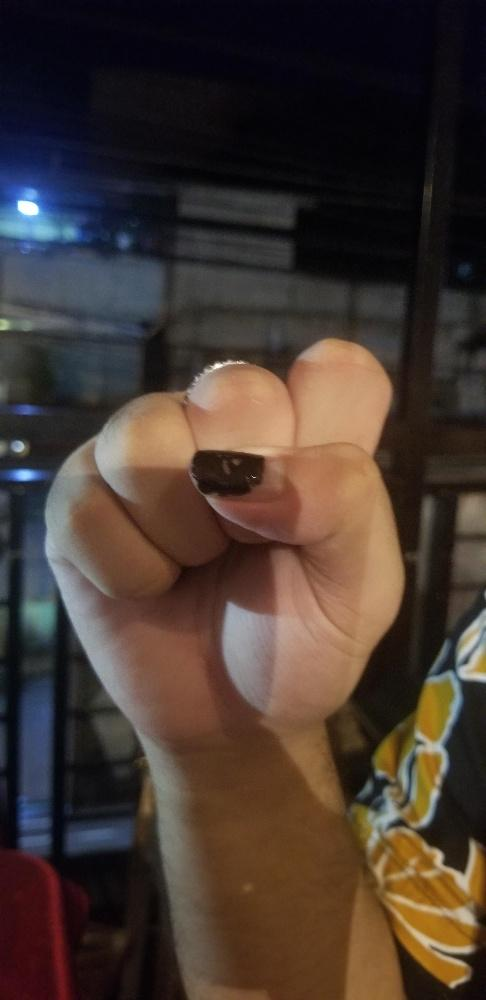s: (39, 342, 404, 728)
